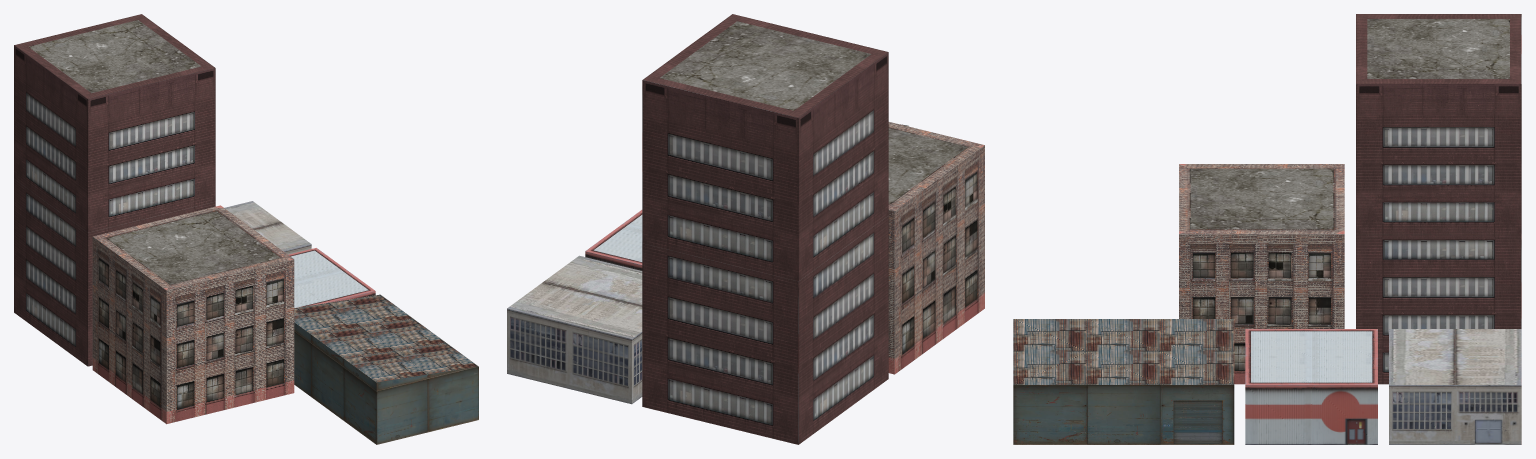
Rendered from PSX_Buildings.fbx.
3 views of the same model, side by side, from view 1: azimuth 30°, elevation 25°; view 2: azimuth 150°, elevation 25°; view 3: azimuth 270°, elevation 25° (orthographic). The views are drawn at different scales.
Parts seen in each view (by area): view 1: Building_D, Building_B, Building_E, Building_C, Building_A; view 2: Building_D, Building_B, Building_A, Building_C; view 3: Building_D, Building_E, Building_B, Building_A, Building_C.
Boxes of the visible parts, <box> form: Building_D: <box>14,14,215,366</box>; Building_B: <box>92,205,294,424</box>; Building_E: <box>294,294,478,444</box>; Building_C: <box>288,248,375,307</box>; Building_A: <box>224,201,311,254</box>; Building_D: <box>642,14,888,444</box>; Building_B: <box>888,122,984,374</box>; Building_A: <box>507,255,642,404</box>; Building_C: <box>585,210,642,270</box>; Building_D: <box>1356,14,1521,384</box>; Building_E: <box>1013,319,1234,444</box>; Building_B: <box>1179,164,1344,384</box>; Building_A: <box>1389,329,1521,444</box>; Building_C: <box>1245,329,1377,444</box>.
Bounding box in the file's own units: 2800 × 3000 × 4600.
